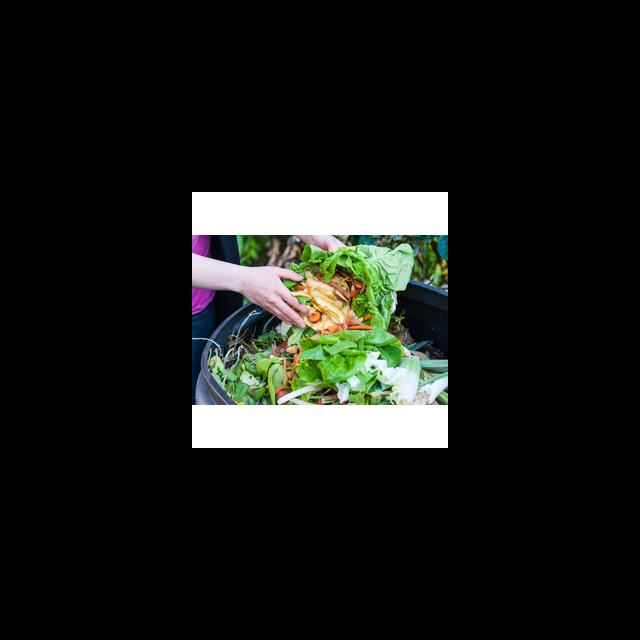food_waste: (305, 331, 423, 402), (342, 258, 401, 304), (266, 341, 307, 402), (308, 279, 343, 317)
